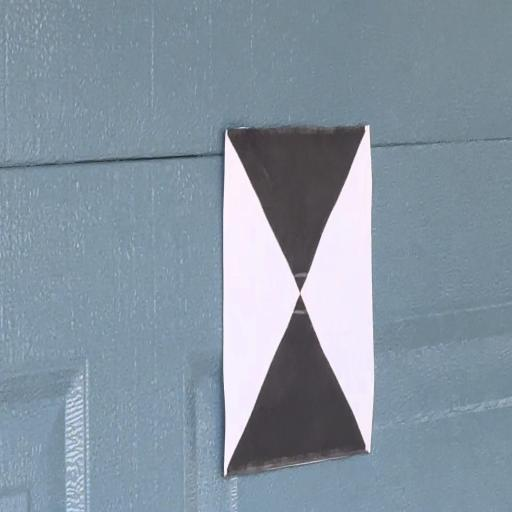target: (226, 132, 370, 454)
